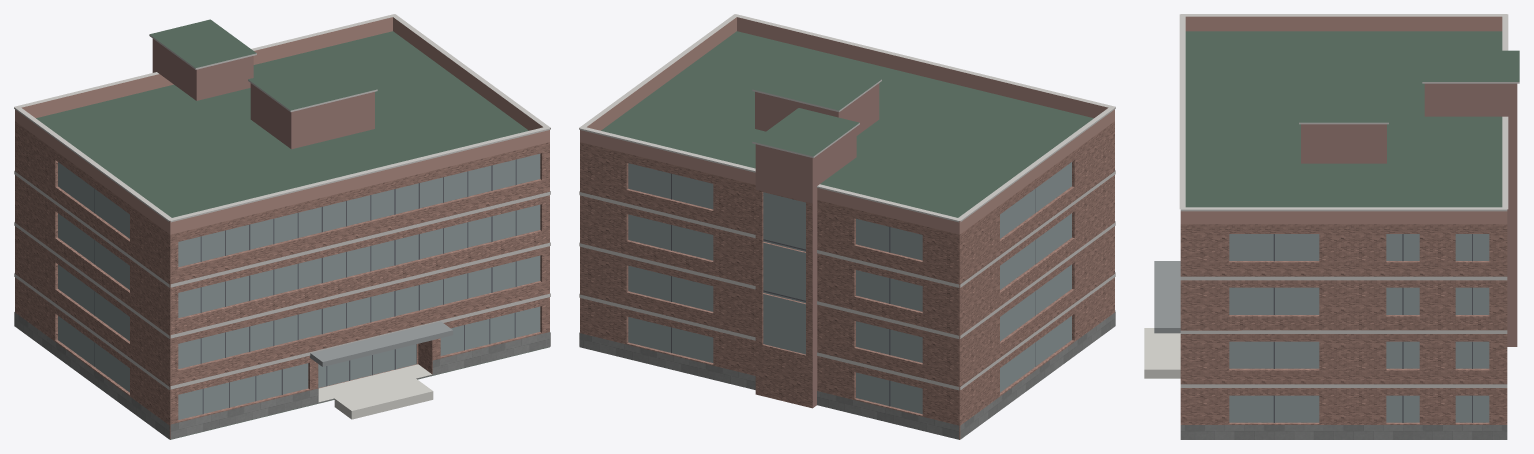
The picture shows the model from 3 angles, left to right: view 1: azimuth 30°, elevation 25°; view 2: azimuth 150°, elevation 25°; view 3: azimuth 270°, elevation 25°; orthographic projection. The views are drawn at different scales.
Parts seen in each view (by area): view 1: sci26__wall, sci26__roof, sci26__glass, sci26__parapet, sci26__trim, sci26__wall2, sci26__base, sci26__entranceStair, sci26__frame, sci26__canopy; view 2: sci26__wall, sci26__roof, sci26__glass, sci26__parapet, sci26__trim, sci26__wall2, sci26__base, sci26__frame; view 3: sci26__roof, sci26__wall, sci26__glass, sci26__parapet, sci26__trim, sci26__wall2, sci26__base, sci26__canopy, sci26__entranceStair, sci26__frame.
Boxes of the visible parts, left/top/right/bottom form: sci26__wall: left=15, top=121, right=549, bottom=439; sci26__roof: left=36, top=19, right=549, bottom=439; sci26__glass: left=58, top=154, right=540, bottom=419; sci26__parapet: left=15, top=17, right=549, bottom=234; sci26__trim: left=14, top=14, right=550, bottom=389; sci26__wall2: left=152, top=39, right=374, bottom=149; sci26__base: left=14, top=312, right=550, bottom=439; sci26__entranceStair: left=318, top=364, right=433, bottom=419; sci26__frame: left=94, top=159, right=516, bottom=414; sci26__canopy: left=310, top=321, right=453, bottom=366; sci26__wall: left=580, top=121, right=1114, bottom=439; sci26__roof: left=601, top=31, right=1093, bottom=439; sci26__glass: left=628, top=162, right=1071, bottom=413; sci26__parapet: left=580, top=17, right=1114, bottom=234; sci26__trim: left=579, top=14, right=1115, bottom=390; sci26__wall2: left=755, top=83, right=879, bottom=407; sci26__base: left=579, top=310, right=1115, bottom=439; sci26__frame: left=671, top=173, right=1035, bottom=406; sci26__roof: left=1185, top=31, right=1519, bottom=207; sci26__wall: left=1180, top=224, right=1507, bottom=424; sci26__glass: left=1229, top=234, right=1489, bottom=422; sci26__parapet: left=1180, top=16, right=1507, bottom=224; sci26__trim: left=1179, top=14, right=1519, bottom=387; sci26__wall2: left=1301, top=83, right=1517, bottom=346; sci26__base: left=1180, top=425, right=1507, bottom=439; sci26__canopy: left=1154, top=261, right=1180, bottom=333; sci26__entranceStair: left=1144, top=328, right=1180, bottom=378; sci26__frame: left=1273, top=234, right=1472, bottom=422.
Size of the model in its own units: 28.05 by 18.31 by 22.73.
Materials: 11 (2 with a texture image).
